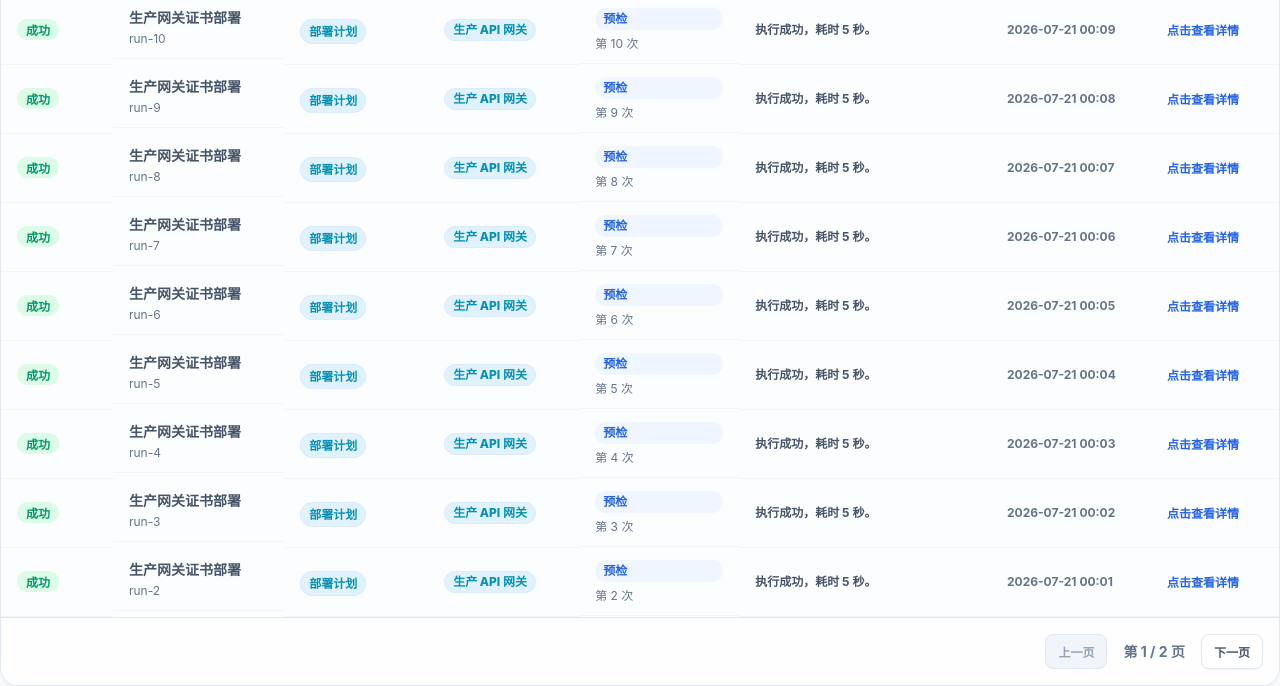
Scenario: ExecutionsView › 执行记录超过二十条时只渲染当前页并支持翻页
(page scrolled)
Step 1. Click the button "下一页" → (1232, 651), box [1201,634,1263,668]
(page scrolled)
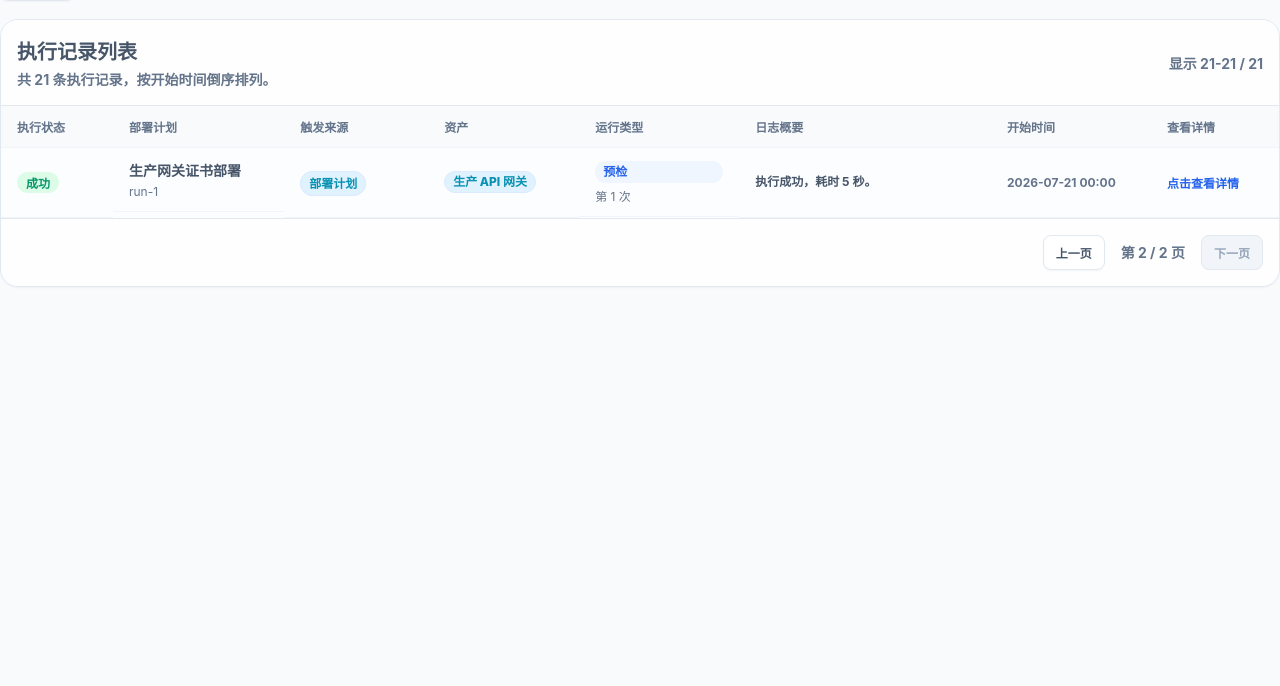
Check: the number of buttons with class "execution-list__record" is 1, box [1,148,1279,217]
